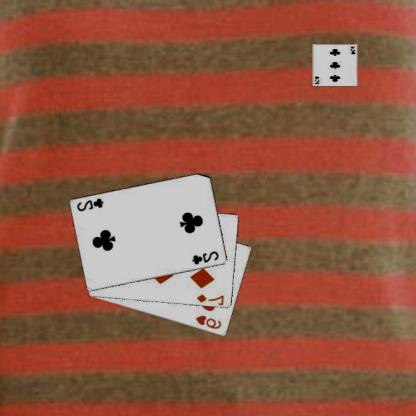2C: (191, 249, 222, 266), (76, 196, 107, 212)
6H: (195, 313, 224, 331)
7D: (196, 292, 227, 305)
